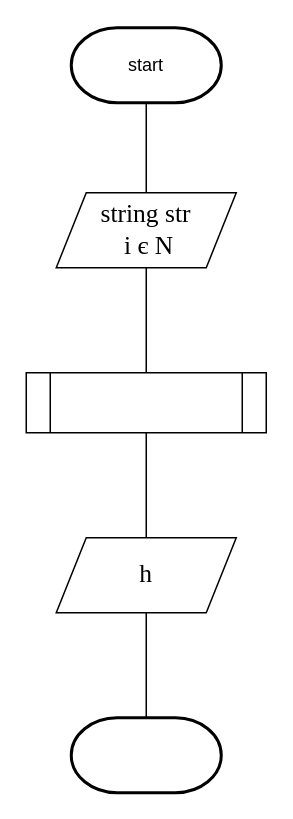
The diagram is 293 pixels wide and 819 high, and some of its shapes have lost their labels. The box of each missing label's shape, as (x1, y1, x2, y2) in pixels:
end: (69, 716, 222, 794)
h = (hashCode(str) + i) % size: (25, 371, 266, 433)
